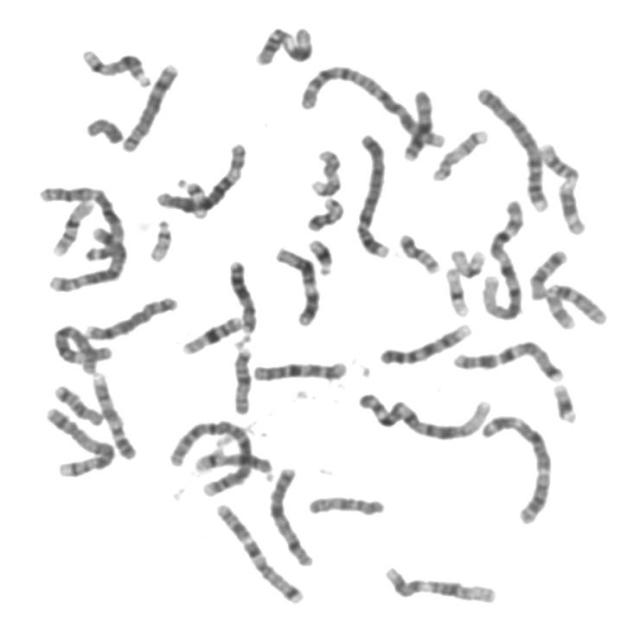A1: (352, 386, 494, 442), (477, 192, 528, 322)
A2: (294, 58, 446, 150), (163, 414, 257, 498)
A3: (477, 407, 555, 526), (39, 185, 125, 264)
B4: (471, 80, 552, 214), (350, 127, 393, 260)
B5: (44, 224, 132, 294), (40, 401, 118, 478)
C10: (540, 278, 610, 331), (248, 354, 350, 383)
C11: (534, 136, 589, 236), (250, 19, 316, 68)
C12: (378, 560, 499, 607), (270, 241, 322, 328)
C6: (150, 137, 250, 214), (48, 318, 115, 374)
C7: (210, 497, 307, 606), (446, 336, 566, 383)
C8: (116, 57, 182, 154), (80, 290, 181, 342)
C9: (86, 366, 140, 462), (374, 318, 475, 367)
D13: (223, 254, 260, 337), (398, 84, 435, 162)
D14: (76, 42, 154, 89), (189, 446, 277, 481)
D15: (302, 489, 388, 518), (228, 340, 255, 416)
E16: (176, 309, 246, 356), (46, 193, 97, 257)
E17: (426, 122, 491, 183), (305, 143, 345, 198)
E18: (48, 378, 106, 428), (524, 244, 570, 302)
F19: (441, 262, 472, 318), (444, 242, 488, 279)
F20: (392, 227, 442, 276), (302, 192, 347, 233)
G21: (548, 378, 580, 425), (303, 232, 336, 276)
G22: (174, 172, 211, 219), (144, 212, 176, 264)
X: (264, 461, 316, 568)
Y: (80, 110, 126, 146)
